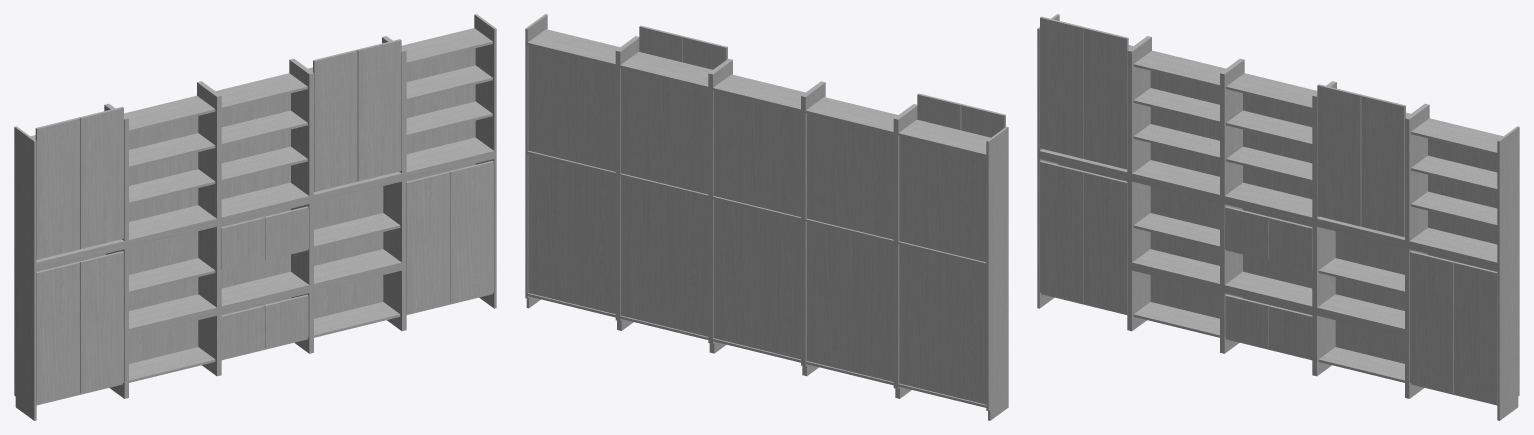
Rendered from KATMAN-KITAPLIK_3_V10-STIL.glb.
3 views of the same model, side by side, from view 1: azimuth 30°, elevation 25°; view 2: azimuth 150°, elevation 25°; view 3: azimuth 330°, elevation 25° (orthographic).
Visible parts, largest first — view 1: 3DGeom-3 (×10), 3DGeom-9 (×4), 3DGeom-8 (×4), 3DGeom-1 (×11), 3DGeom-17 (×3), 3DGeom-15 (×3), 3DGeom-11 (×5), 3DGeom-2 (×5), 3DGeom-32 (×4), 3DGeom-49, 3DGeom-31, 3DGeom-80; view 2: 3DGeom-17 (×5), 3DGeom-15 (×5), 3DGeom-3 (×10), 3DGeom-2 (×5), 3DGeom-9 (×4); view 3: 3DGeom-3 (×10), 3DGeom-9 (×4), 3DGeom-8 (×4), 3DGeom-1 (×11), 3DGeom-17 (×3), 3DGeom-15 (×3), 3DGeom-11 (×5), 3DGeom-2 (×5), 3DGeom-32 (×4), 3DGeom-49, 3DGeom-80, 3DGeom-31.
Boxes of the visible parts, left/top/right/bottom form: 3DGeom-3 (×10): left=14, top=15, right=496, bottom=420; 3DGeom-9 (×4): left=35, top=39, right=401, bottom=259; 3DGeom-8 (×4): left=36, top=160, right=493, bottom=403; 3DGeom-1 (×11): left=129, top=65, right=492, bottom=327; 3DGeom-17 (×3): left=129, top=186, right=383, bottom=363; 3DGeom-15 (×3): left=129, top=48, right=475, bottom=221; 3DGeom-11 (×5): left=36, top=137, right=494, bottom=270; 3DGeom-2 (×5): left=124, top=28, right=492, bottom=382; 3DGeom-32 (×4): left=221, top=206, right=308, bottom=358; 3DGeom-49: left=221, top=284, right=309, bottom=314; 3DGeom-31: left=129, top=306, right=216, bottom=336; 3DGeom-80: left=314, top=261, right=401, bottom=291; 3DGeom-17 (×5): left=528, top=154, right=986, bottom=404; 3DGeom-15 (×5): left=528, top=45, right=986, bottom=262; 3DGeom-3 (×10): left=525, top=15, right=1008, bottom=420; 3DGeom-2 (×5): left=527, top=29, right=990, bottom=156; 3DGeom-9 (×4): left=639, top=25, right=1005, bottom=137; 3DGeom-3 (×10): left=1037, top=15, right=1519, bottom=420; 3DGeom-9 (×4): left=1040, top=16, right=1405, bottom=237; 3DGeom-8 (×4): left=1040, top=160, right=1497, bottom=403; 3DGeom-1 (×11): left=1133, top=88, right=1497, bottom=327; 3DGeom-17 (×3): left=1150, top=186, right=1404, bottom=363; 3DGeom-15 (×3): left=1150, top=71, right=1497, bottom=244; 3DGeom-11 (×5): left=1039, top=149, right=1497, bottom=270; 3DGeom-2 (×5): left=1133, top=50, right=1502, bottom=382; 3DGeom-32 (×4): left=1225, top=206, right=1312, bottom=358; 3DGeom-49: left=1224, top=284, right=1312, bottom=314; 3DGeom-80: left=1317, top=306, right=1404, bottom=336; 3DGeom-31: left=1132, top=261, right=1219, bottom=291.
Bounding box in the file's own units: 3.6 × 2.17 × 0.27.
Materials: 2 (2 with a texture image).
